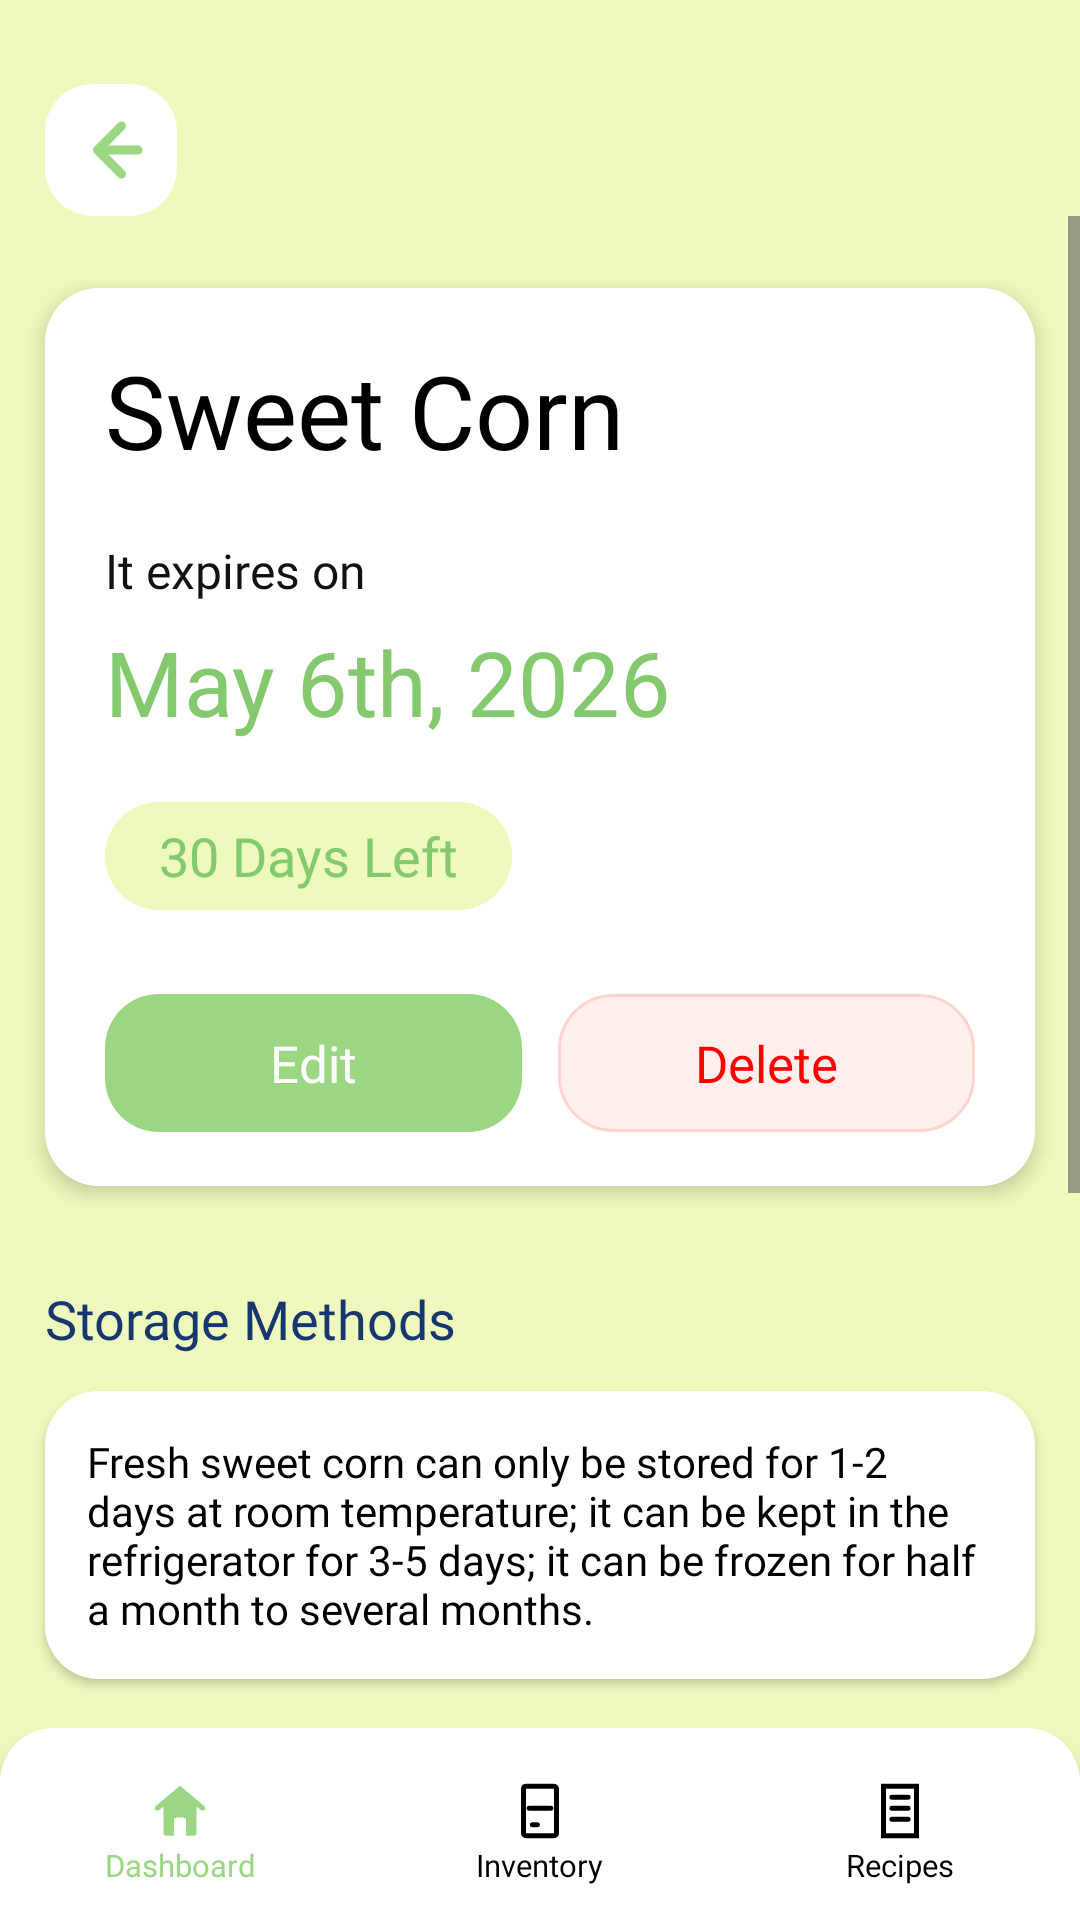

Screen size 1080x1920. Icon name, then its center in pixels as point (x, y):
Back: point (111, 150)
home: point (180, 1811)
